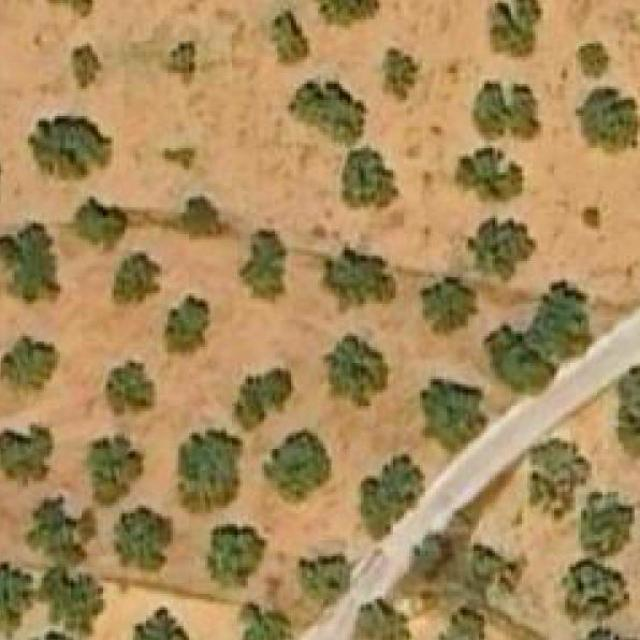Tree: (482, 282, 593, 393), (289, 73, 369, 146), (323, 329, 393, 409), (178, 429, 243, 514), (28, 116, 114, 180), (359, 454, 423, 538), (264, 427, 332, 506), (420, 377, 487, 455), (0, 223, 58, 302), (575, 87, 640, 157), (522, 446, 581, 518), (110, 506, 173, 573), (87, 436, 146, 506), (326, 245, 396, 304), (33, 497, 96, 562), (208, 524, 268, 592), (473, 218, 536, 280), (232, 370, 291, 433), (240, 229, 289, 304), (474, 82, 538, 138), (563, 562, 627, 618), (420, 277, 479, 336), (342, 148, 400, 207), (1, 334, 60, 391), (47, 567, 101, 626), (0, 426, 53, 484), (105, 361, 157, 420), (111, 250, 162, 307), (71, 199, 128, 250), (490, 0, 541, 57), (162, 295, 208, 358), (460, 146, 520, 194), (300, 554, 353, 608), (471, 543, 520, 597), (235, 599, 294, 640), (272, 12, 312, 69), (0, 564, 31, 634), (131, 606, 194, 640), (361, 599, 412, 640), (162, 33, 200, 87), (310, 0, 386, 25), (618, 366, 640, 452), (187, 195, 230, 238), (412, 532, 450, 578), (386, 48, 418, 100), (439, 608, 488, 640), (573, 44, 611, 79), (71, 44, 101, 87), (162, 148, 198, 170), (574, 628, 640, 640)
